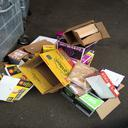cardboard: (7, 35, 94, 74), (17, 48, 72, 94), (60, 82, 102, 116), (62, 18, 110, 45), (7, 40, 52, 64), (85, 71, 118, 99), (0, 73, 32, 101), (67, 61, 98, 89), (99, 66, 124, 90), (95, 97, 119, 118), (22, 39, 54, 54), (1, 63, 19, 74)
